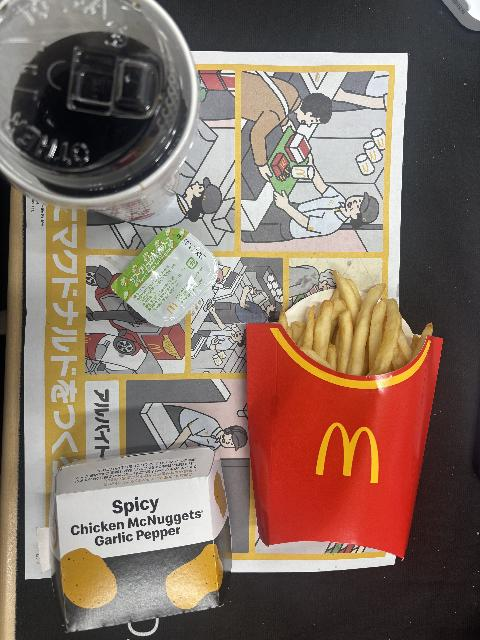drink: (0, 0, 207, 221)
fries: (246, 271, 443, 561)
nuggets: (36, 447, 232, 634)
sauce: (112, 227, 218, 327)
